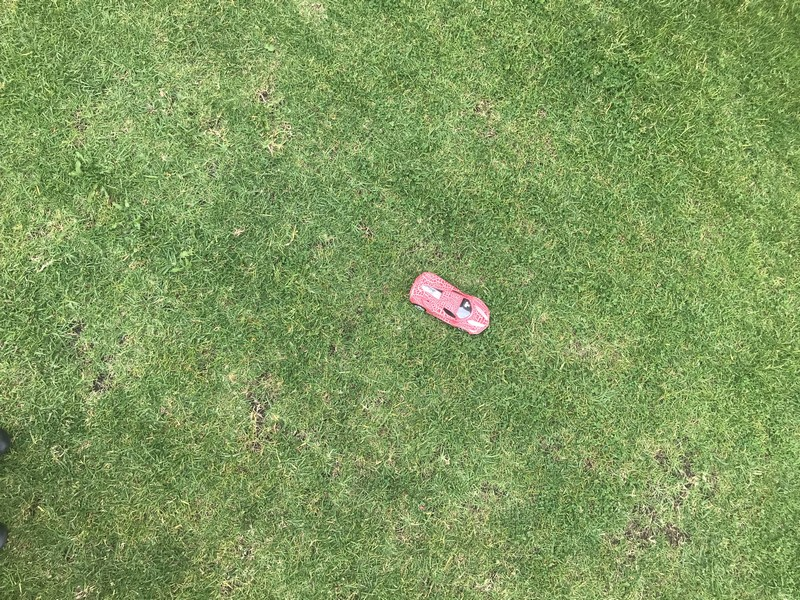RC: (407, 271, 493, 336)
